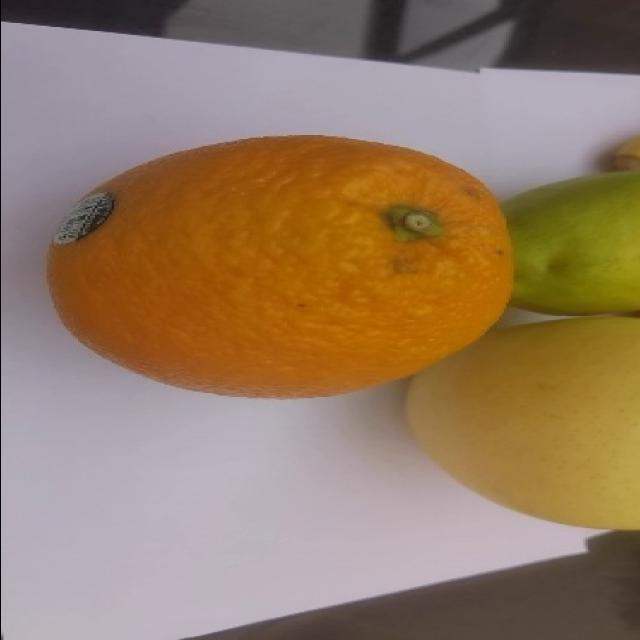Orange: (45, 133, 514, 399)
